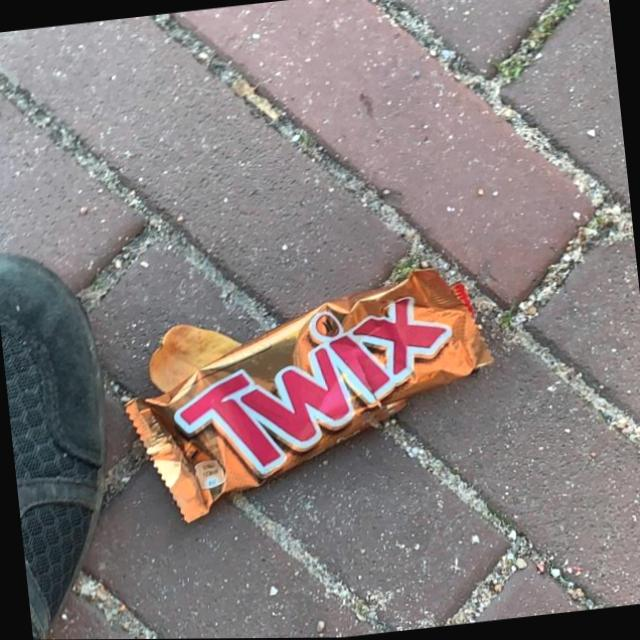Plastic: (108, 257, 510, 533)
